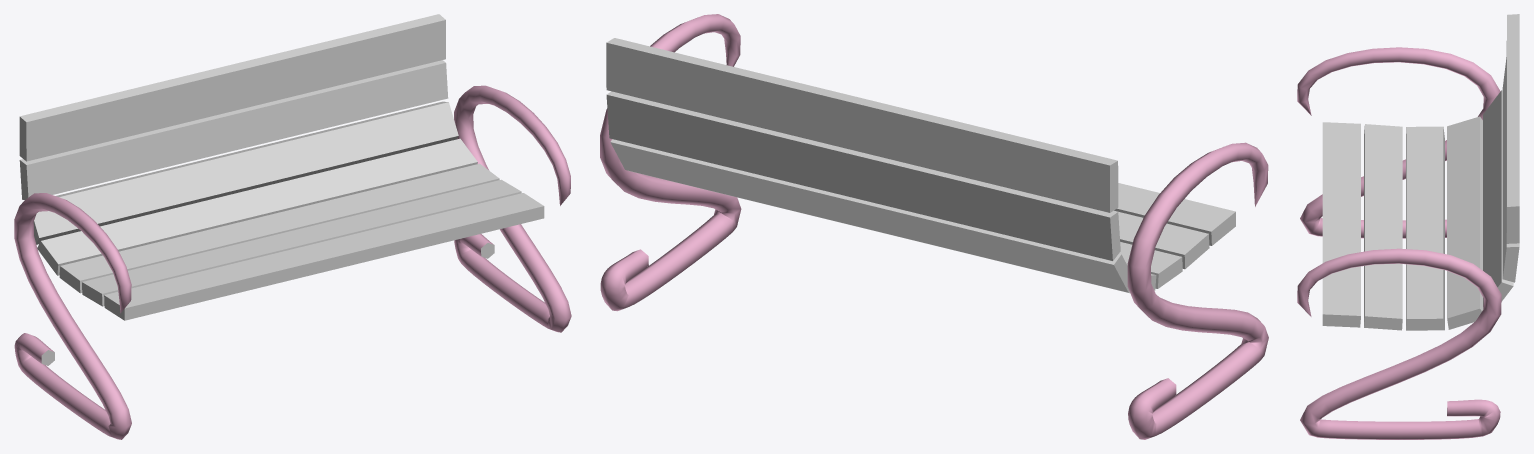
The model's file is Park Bench 01.fbx.
3 views of the same model, side by side, from view 1: azimuth 30°, elevation 25°; view 2: azimuth 150°, elevation 25°; view 3: azimuth 270°, elevation 25° (orthographic). The views are drawn at different scales.
Visible parts, largest first — view 1: Bench Seat; view 2: Bench Seat; view 3: Bench Seat.
Part boxes in pixels (x1,y1,x2,y2): Bench Seat: (14,14,571,439); Bench Seat: (600,14,1268,439); Bench Seat: (1297,14,1519,439).
Bounding box in the file's own units: 217 × 111 × 97.83.
